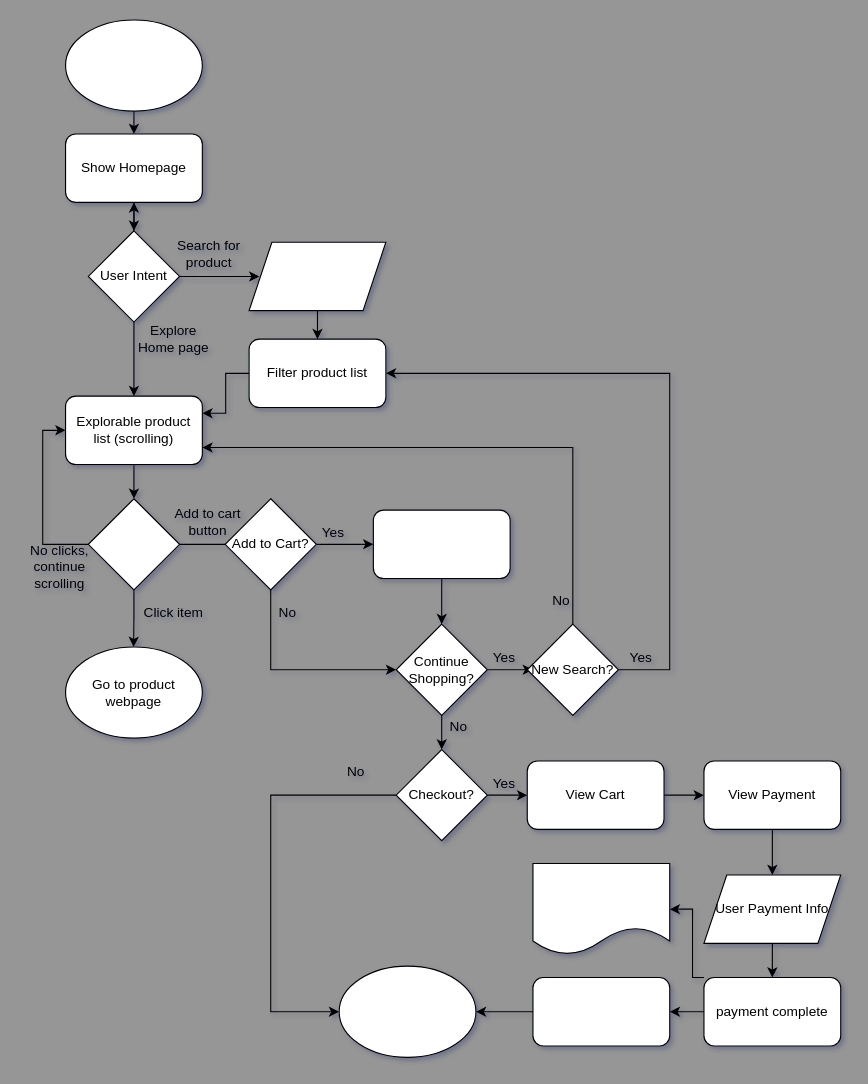
This 868x1084 diagram has some shape labels left out. Each missing label, with the centre of its shape:
"Confirmation: added to cart" belongs at pixel 441 544.
"Email order confimation" belongs at pixel 601 908.
"Enter Website" belongs at pixel 133 65.
"Exit Website" belongs at pixel 407 1011.
"Show order confirmation" belongs at pixel 601 1011.
"User search input" belongs at pixel 317 276.
"View Specific item" belongs at pixel 133 544.
